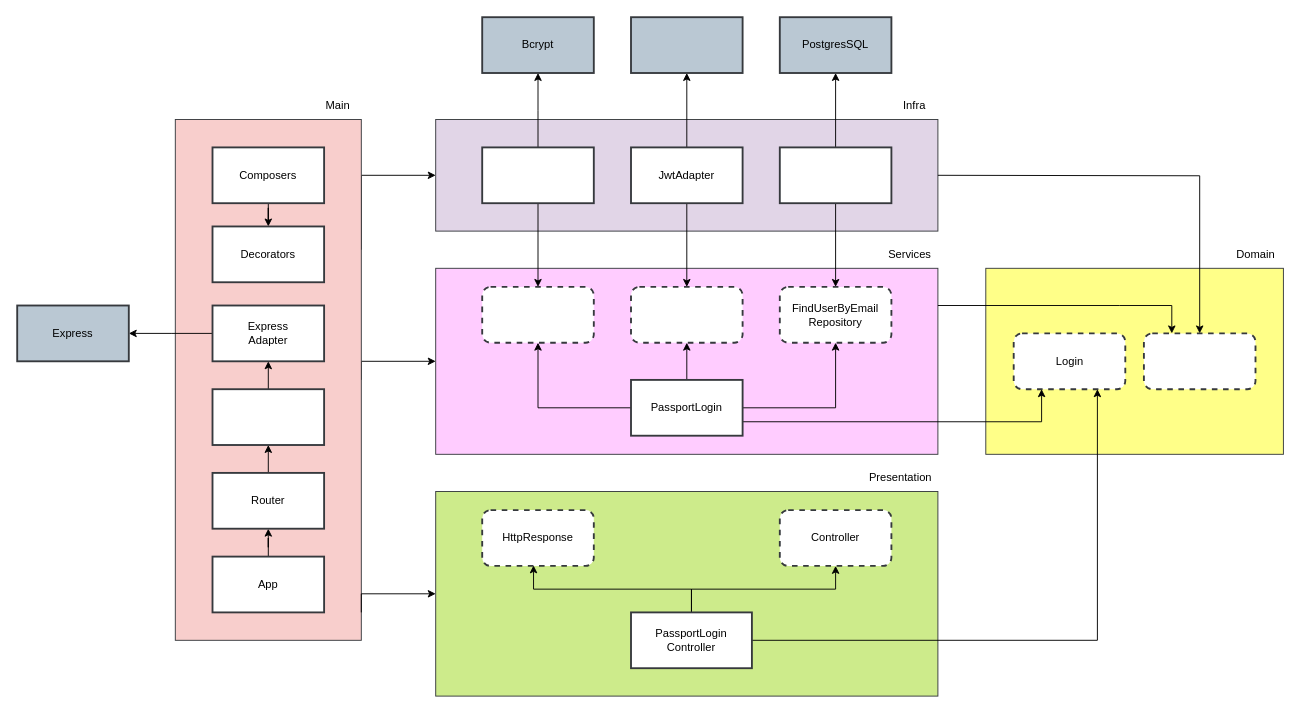
This 1299x712 diagram has some shape labels left out. The centre of each missing label's shape, as x and y in pixels:
"BcryptAdapter" goes at point 537,175.
"HashComparator" goes at point 537,314.
"JsonWebToken" goes at point 686,44.
"Routes" goes at point 268,416.
"TokenGenerator" goes at point 686,314.
"UserModel" goes at point 1199,361.
"UserRepository" goes at point 835,175.
